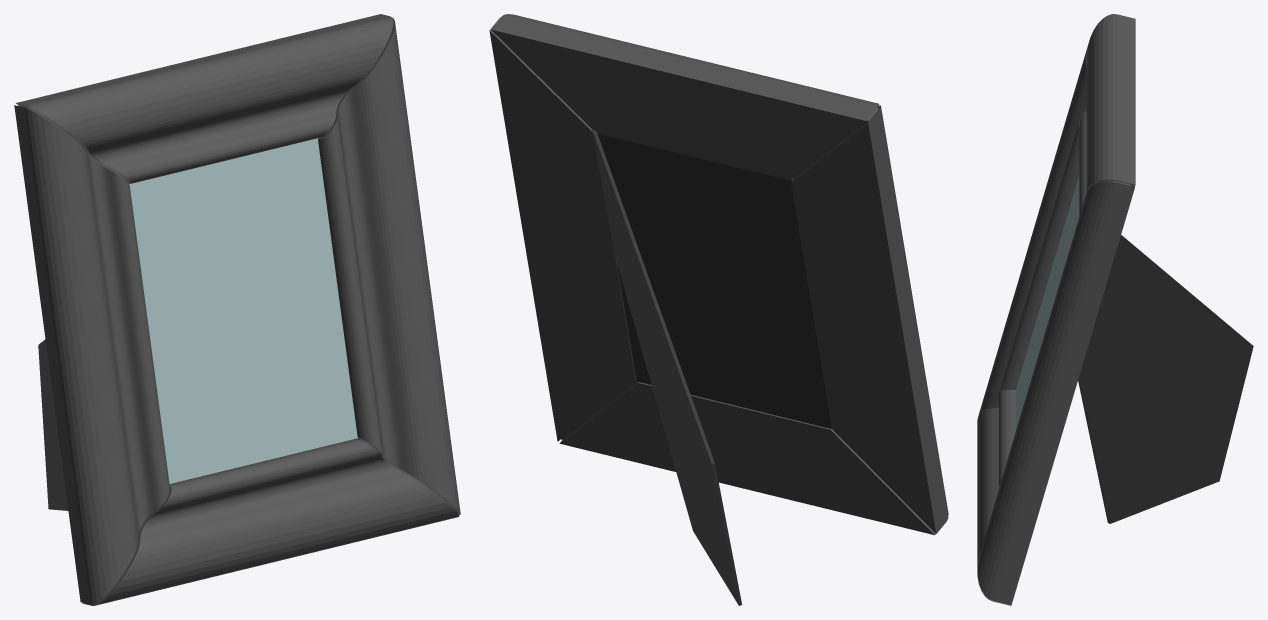
Rendered from frame.dae.
3 renders of one model, left to right at view 1: azimuth 30°, elevation 25°; view 2: azimuth 150°, elevation 25°; view 3: azimuth 270°, elevation 25°, orthographic. The views are drawn at different scales.
Parts seen in each view (by area): view 1: GSC_Decor3, GSC_Decor2, GSC_Decor1; view 2: GSC_Decor3, GSC_Decor1; view 3: GSC_Decor3, GSC_Decor1, GSC_Decor2.
Boxes of the visible parts, x1,y1,x2,y2 form: GSC_Decor3: [14, 14, 460, 605]; GSC_Decor2: [129, 138, 357, 483]; GSC_Decor1: [38, 339, 68, 510]; GSC_Decor3: [489, 14, 948, 535]; GSC_Decor1: [592, 129, 831, 605]; GSC_Decor3: [977, 14, 1135, 605]; GSC_Decor1: [1078, 235, 1253, 523]; GSC_Decor2: [1015, 176, 1079, 431].
Bounding box in the file's own units: 1.76 × 1.23 × 2.12.
